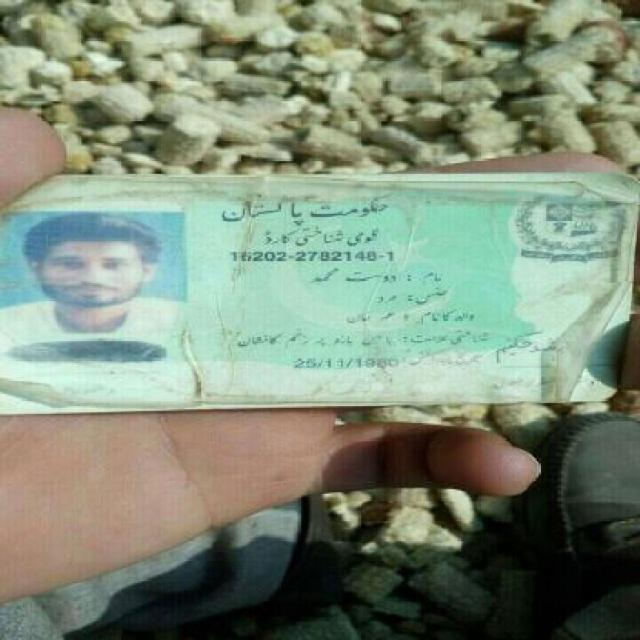Front: (3, 166, 637, 420)
